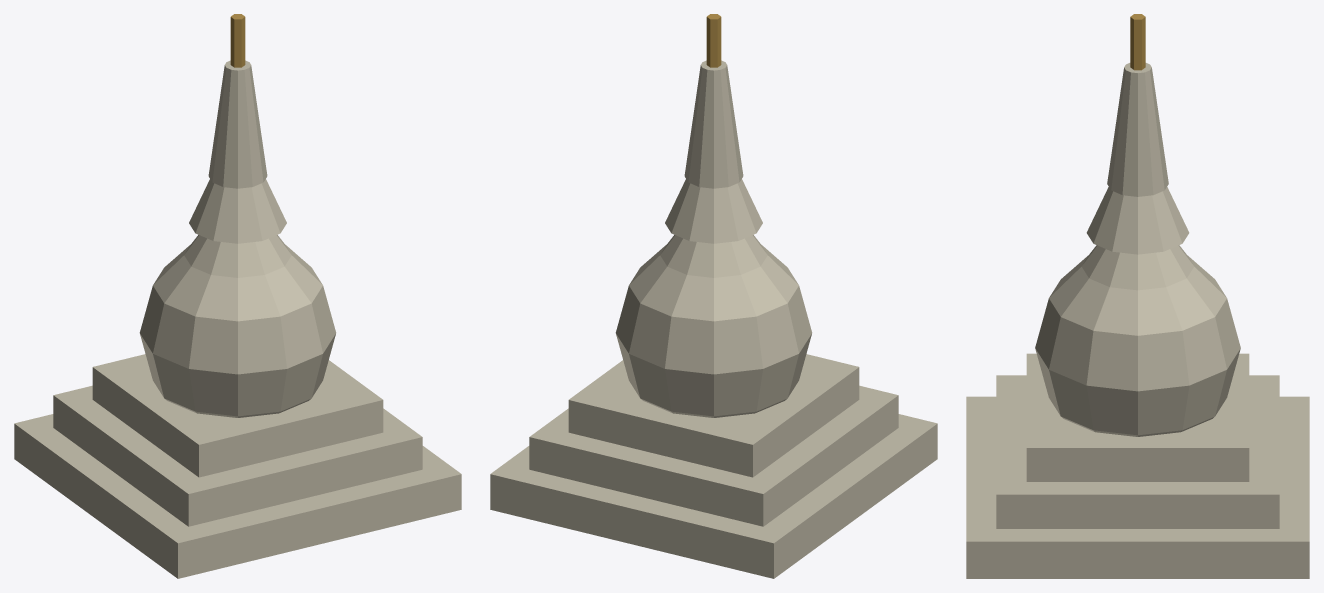
File: stupa-normal.glb
3 renders of one model, left to right at view 1: azimuth 30°, elevation 25°; view 2: azimuth 150°, elevation 25°; view 3: azimuth 270°, elevation 25°, orthographic. The views are drawn at different scales.
Visible parts, largest first — view 1: stupa; view 2: stupa; view 3: stupa.
Part boxes in pixels (x1=…): stupa: x1=14, y1=14, x2=461, y2=578; stupa: x1=490, y1=14, x2=937, y2=578; stupa: x1=966, y1=14, x2=1309, y2=578.
Size of the model in its own units: 2 by 3.15 by 2.
